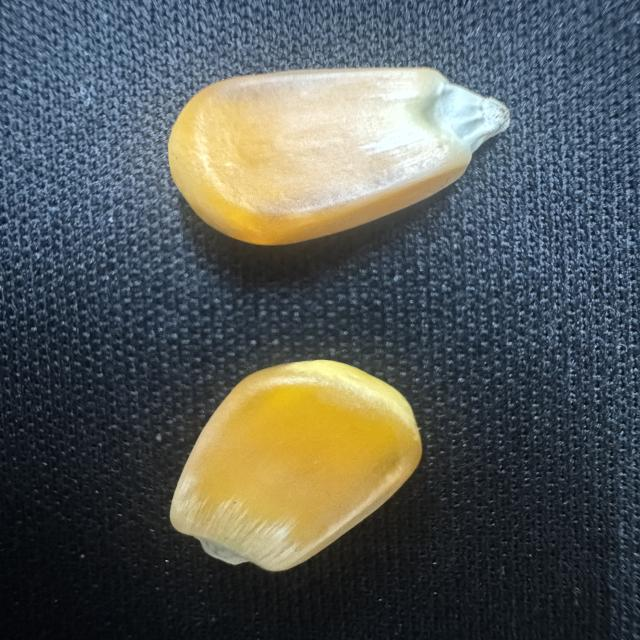Good-Seed: (159, 62, 519, 252), (159, 347, 436, 576)
